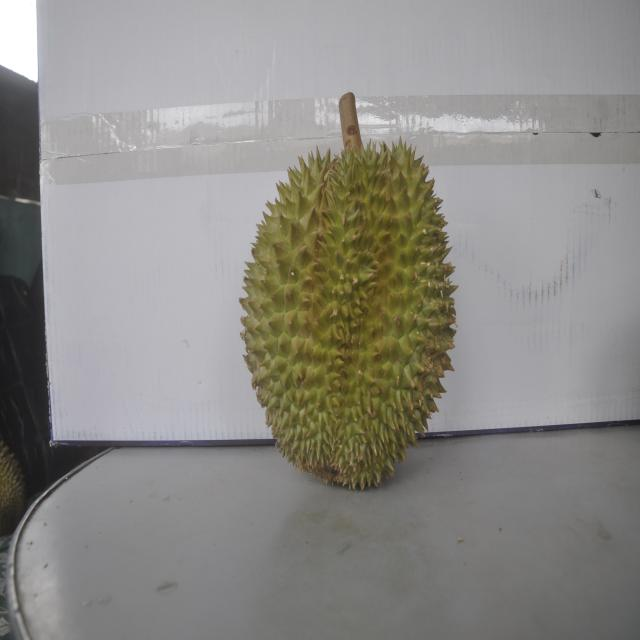mature: (242, 116, 452, 488)
